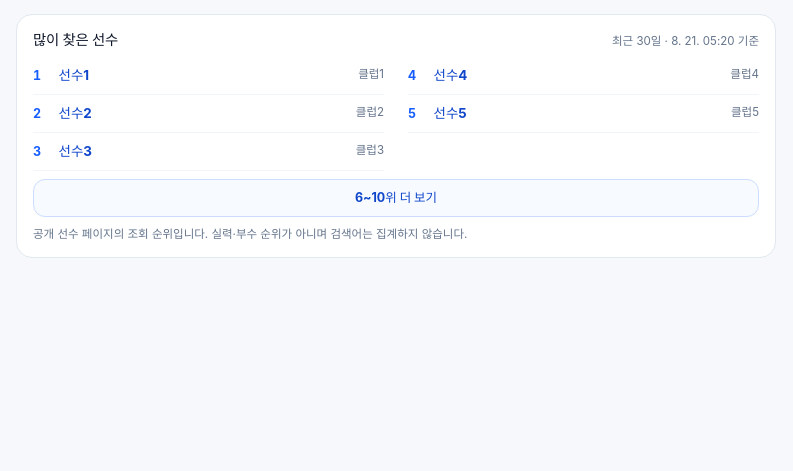
TrendingPlayers › folds the sixth to tenth places on a narrow viewport
Click the button "6~10위 더 보기" at (396, 198), box [33, 179, 759, 217]
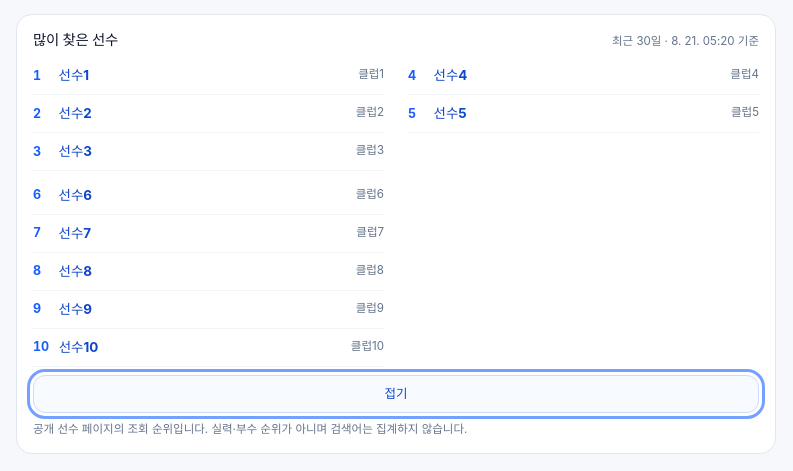
Now the button "접기" is expanded, box [33, 374, 759, 412]
